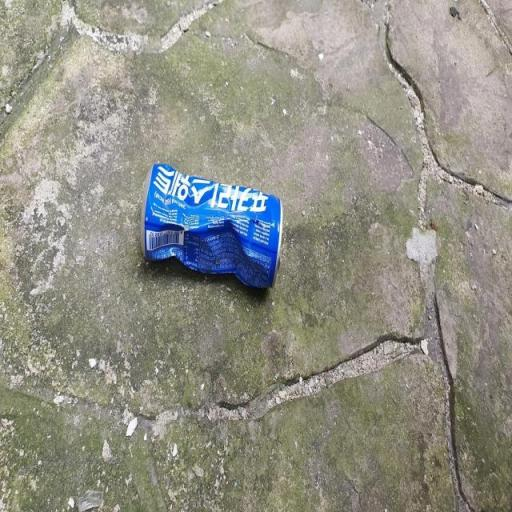metal: (124, 131, 306, 332)
